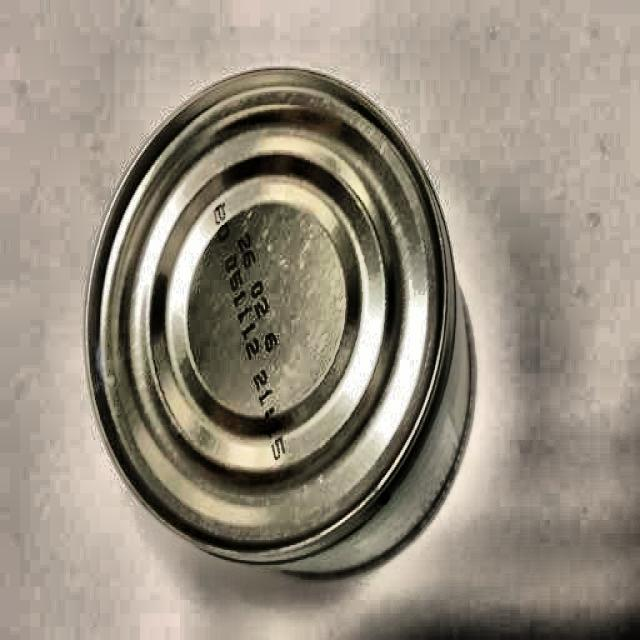metal: (84, 67, 480, 581)
